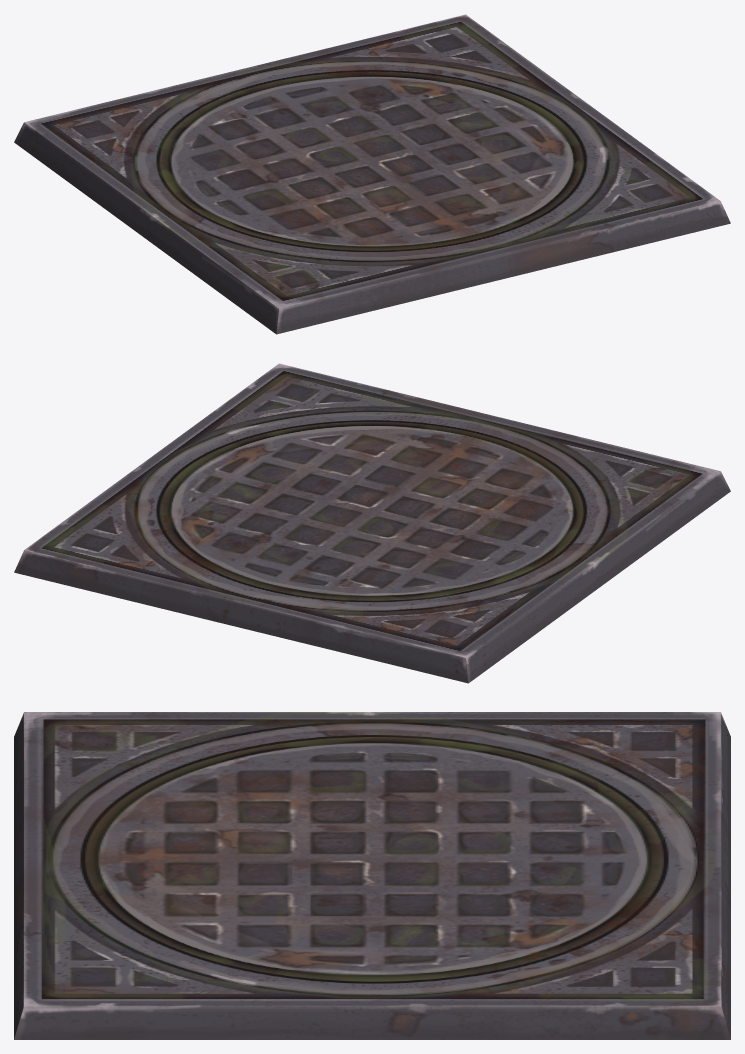
The model's file is manhole01.fbx.
3 views of the same model, one above another, from view 1: azimuth 30°, elevation 25°; view 2: azimuth 150°, elevation 25°; view 3: azimuth 270°, elevation 25° (orthographic). The views are drawn at different scales.
Parts seen in each view (by area): view 1: manhole01; view 2: manhole01; view 3: manhole01.
Part boxes in pixels (box(x1,y1,x2,y2)): manhole01: box(14, 14, 730, 334); manhole01: box(14, 363, 730, 683); manhole01: box(14, 712, 730, 1039).
Bounding box in the file's own units: 112 × 5 × 112.
